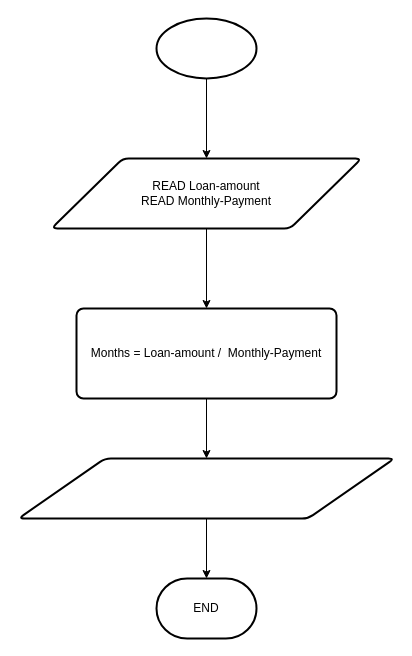
Some shapes in this 412 by 656 pixel diagram are drawn without their labels. Each missing label, with the centre of its shape:
PRINT "Months is " + Months: point 206,488
START: point 206,48
